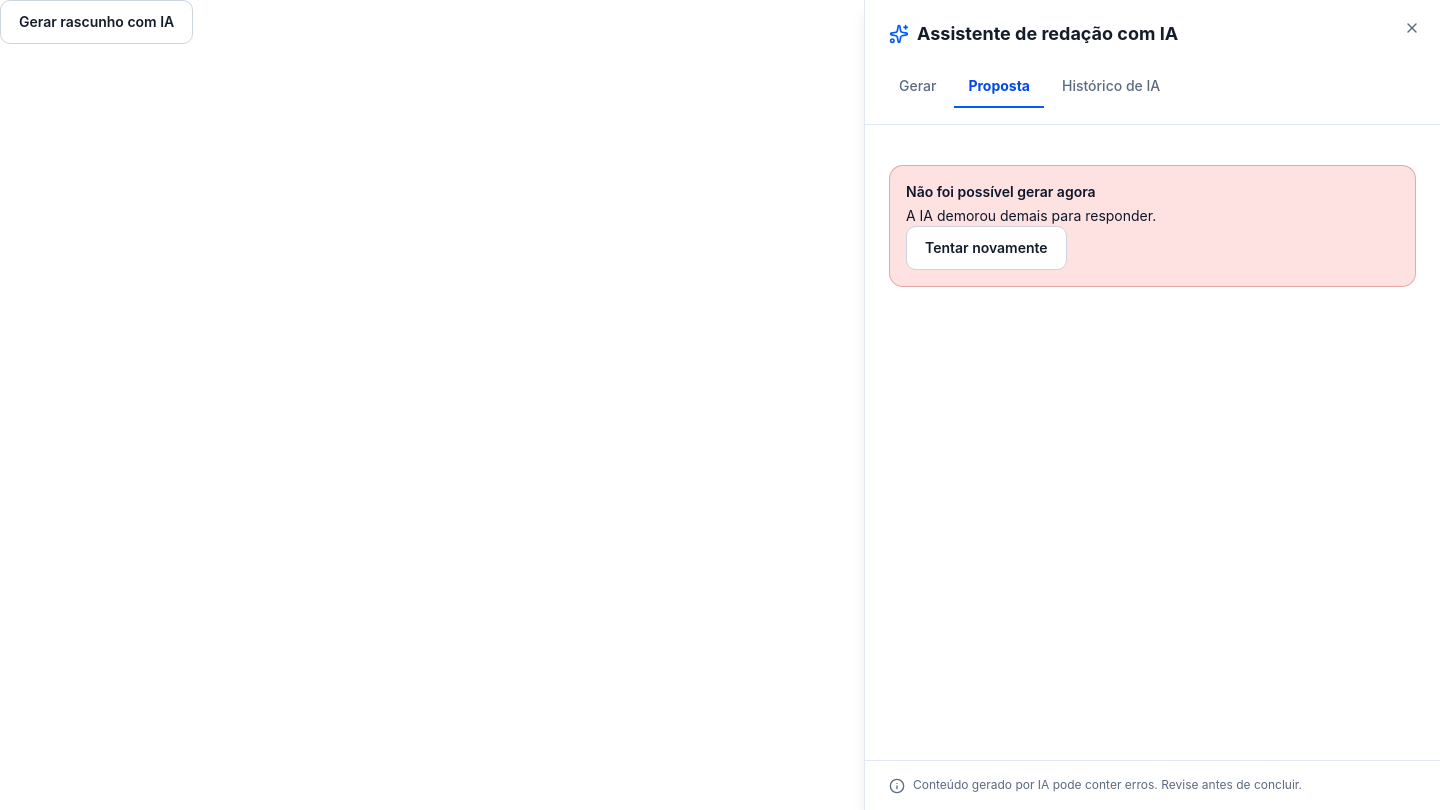
Test: SCR-117 — assistente de redação com IA (US-115) › falha na geração: motivo e "Tentar novamente" volta ao formulário
Expected: the text "Não foi possível gerar agora" is shown, [906,183,1096,200]
Expected: the text "A IA demorou demais para responder." is shown, [906,207,1156,224]
Click the button "Tentar novamente".
click(986, 248)  # box [906,226,1067,270]
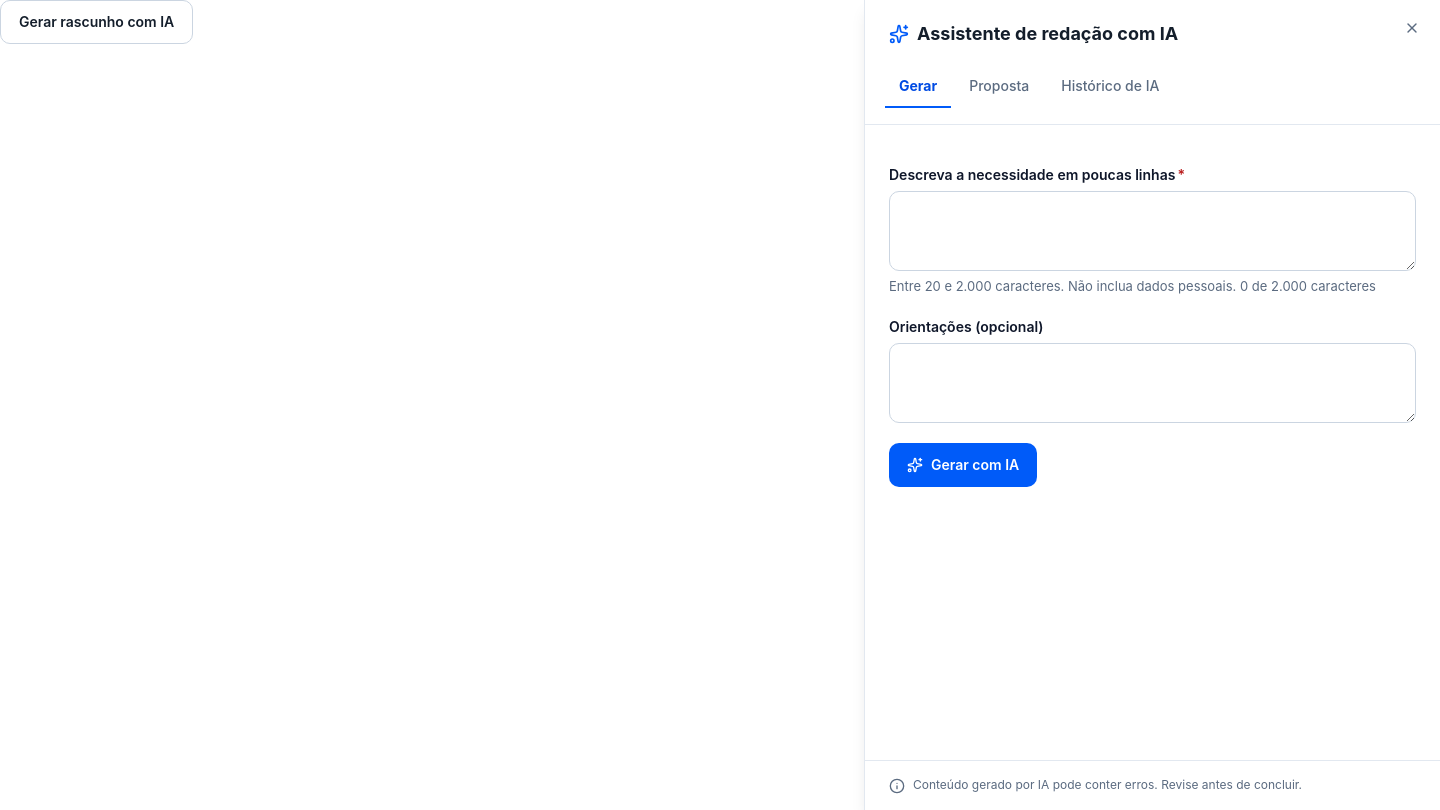
Now the text box labelled "Descreva a necessidade em poucas linhas*" is shown, box [889,191,1416,271]
